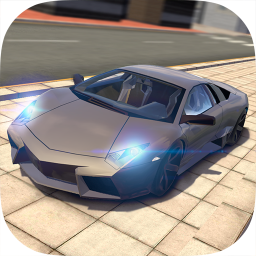car: (7, 64, 250, 203)
